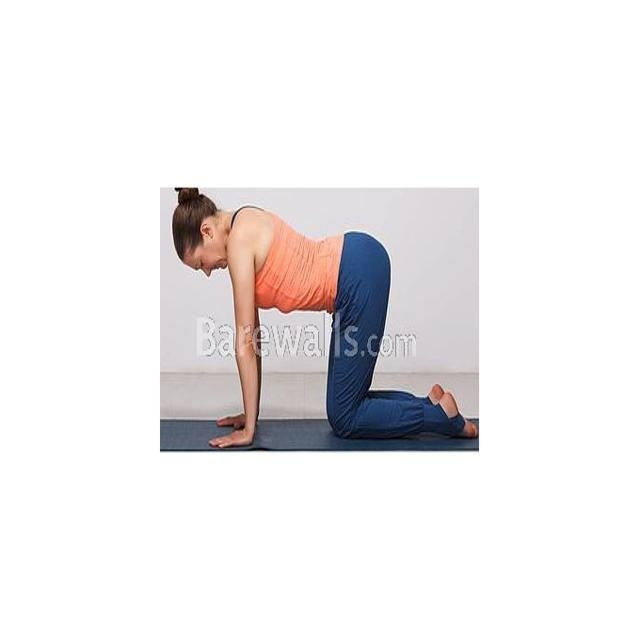Cow_Pose: (172, 186, 477, 451)
